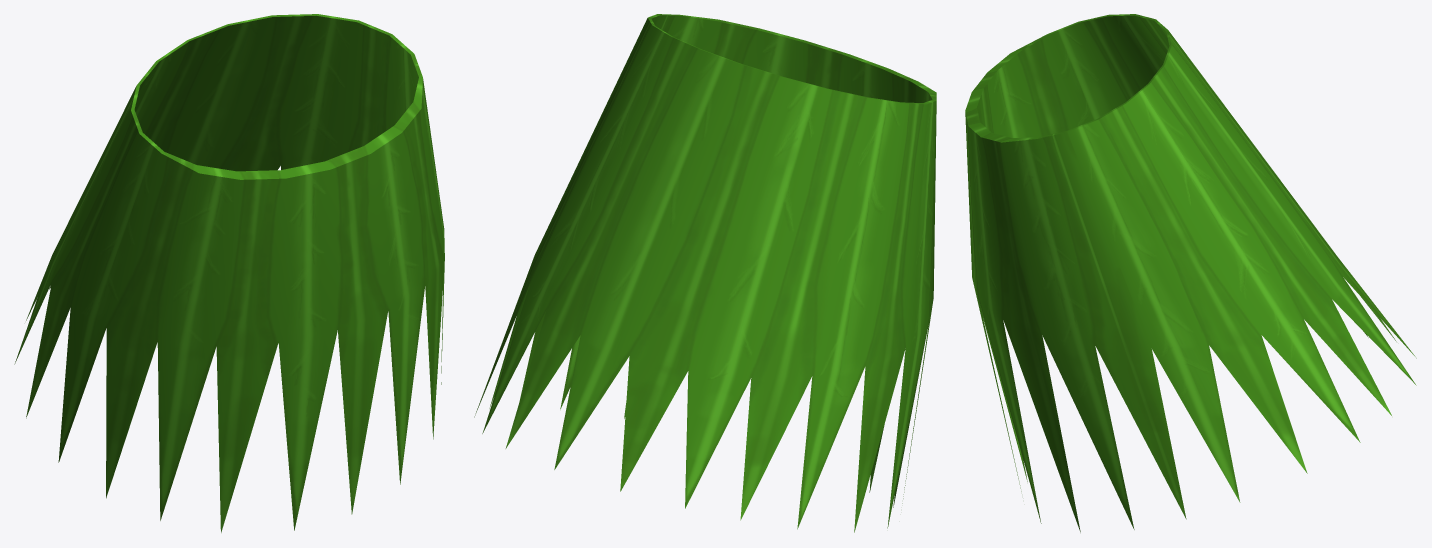
Rendered from skirt_StaticMesh.fbx.
3 renders of one model, left to right at view 1: azimuth 30°, elevation 25°; view 2: azimuth 150°, elevation 25°; view 3: azimuth 270°, elevation 25°, orthographic. The views are drawn at different scales.
Visible parts, largest first — view 1: GliHum_v18:tiki_warrior_v03_freeClothes:skirt; view 2: GliHum_v18:tiki_warrior_v03_freeClothes:skirt; view 3: GliHum_v18:tiki_warrior_v03_freeClothes:skirt.
Part boxes in pixels (left/top/right/bottom): GliHum_v18:tiki_warrior_v03_freeClothes:skirt: left=14, top=14, right=444, bottom=532; GliHum_v18:tiki_warrior_v03_freeClothes:skirt: left=474, top=14, right=936, bottom=532; GliHum_v18:tiki_warrior_v03_freeClothes:skirt: left=965, top=14, right=1416, bottom=532.
Size of the model in its own units: 4.15 by 4.86 by 4.5.
